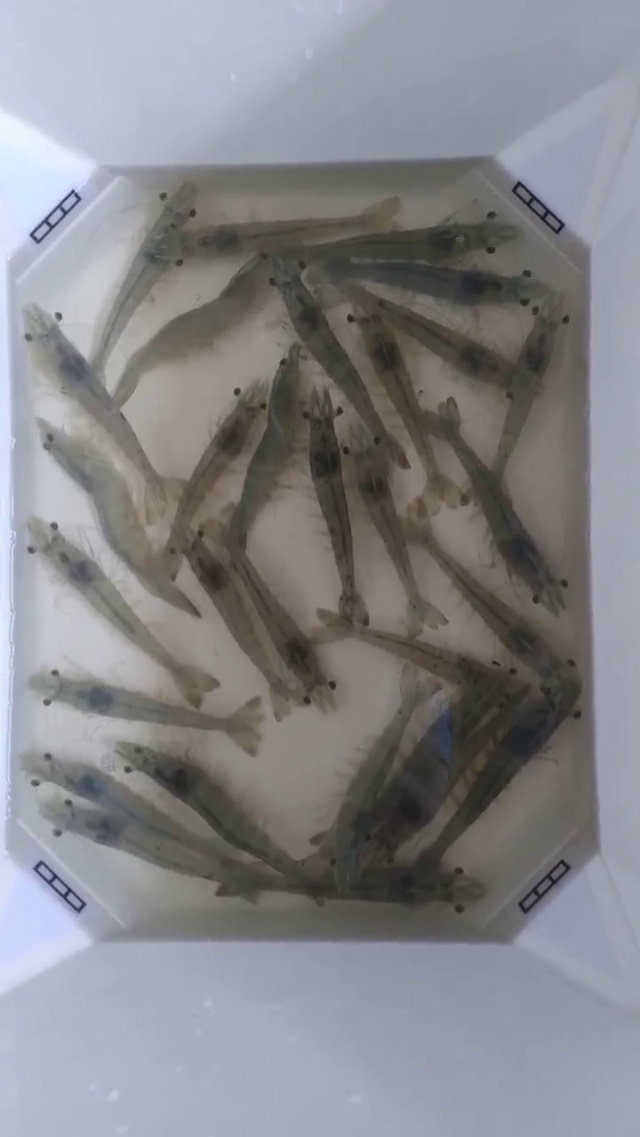shrimp: (530, 549, 639, 797), (187, 410, 293, 619), (0, 590, 112, 769), (290, 347, 385, 553), (0, 320, 89, 534), (357, 437, 461, 601), (0, 204, 85, 402), (255, 213, 371, 358), (100, 182, 196, 354), (427, 397, 522, 568), (64, 680, 199, 797), (167, 495, 260, 663), (431, 158, 532, 304), (282, 774, 371, 935), (495, 276, 568, 470), (367, 614, 486, 731), (241, 342, 316, 515), (485, 494, 565, 641), (393, 791, 487, 914), (44, 755, 154, 855), (25, 515, 122, 628), (273, 608, 367, 719), (312, 587, 388, 687), (32, 859, 86, 914)
